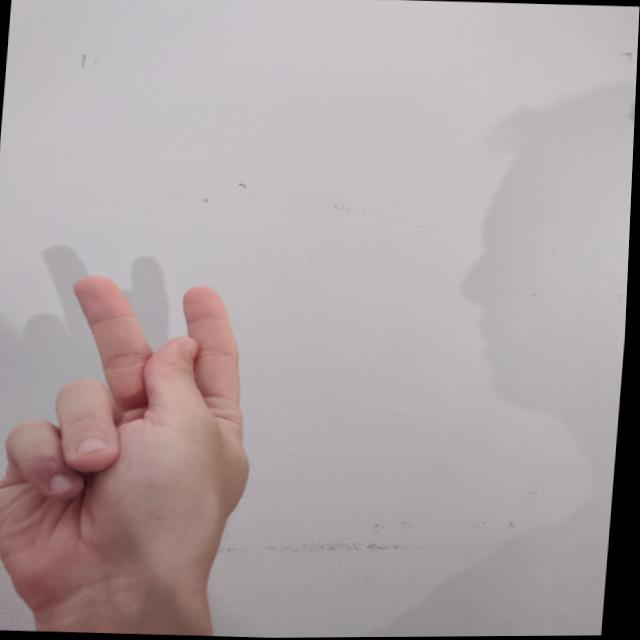K: (0, 263, 282, 633)
